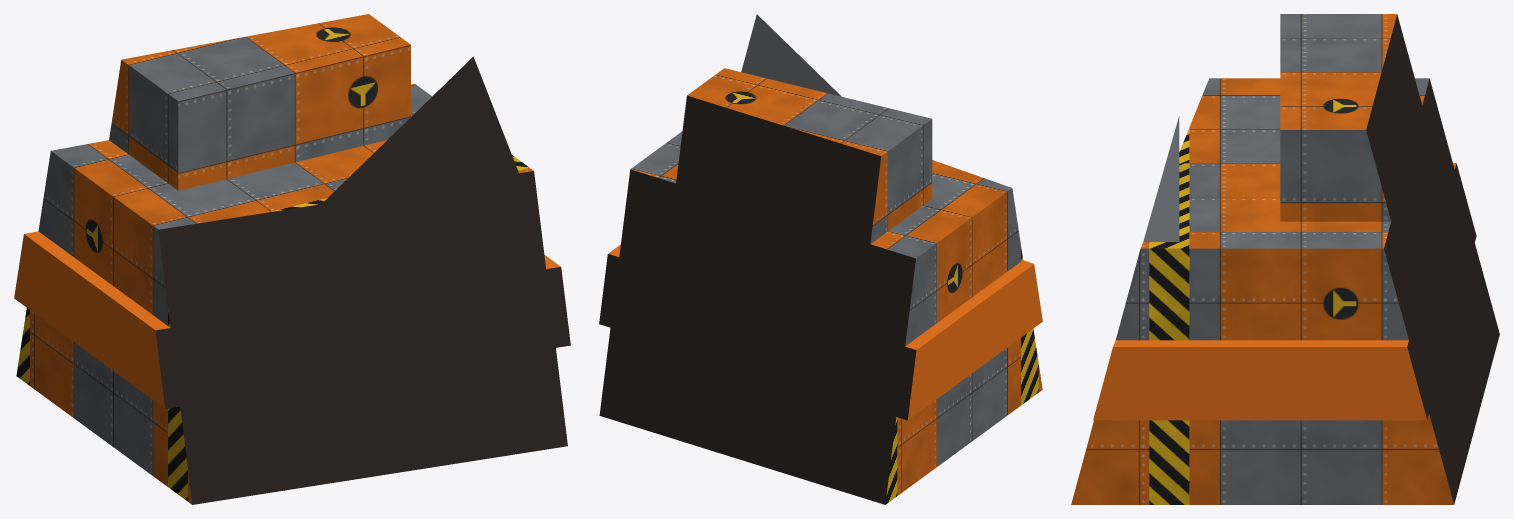
Rendered from prospector_hauler_debris2.obj.
3 renders of one model, left to right at view 1: azimuth 30°, elevation 25°; view 2: azimuth 150°, elevation 25°; view 3: azimuth 270°, elevation 25°, orthographic. The views are drawn at different scales.
Visible parts, largest first — view 1: hull, cab, rail, hopper; view 2: hull, cab, rail, hopper; view 3: hull, cab, rail, hopper.
Part boxes in pixels (box(x1,y1,x2,y2)): hull: box(16, 84, 567, 504); cab: box(109, 14, 410, 190); rail: box(14, 231, 570, 408); hopper: box(322, 56, 518, 203); hull: box(599, 131, 1042, 504); cab: box(676, 68, 932, 243); rail: box(599, 244, 1042, 420); hopper: box(741, 14, 841, 96); hull: box(1071, 78, 1499, 504); cab: box(1280, 14, 1422, 221); rail: box(1093, 163, 1476, 420); hopper: box(1143, 116, 1179, 241).
Bounding box in the file's own units: 10.8 × 10.09 × 10.62.
Materials: 4 (1 with a texture image).
